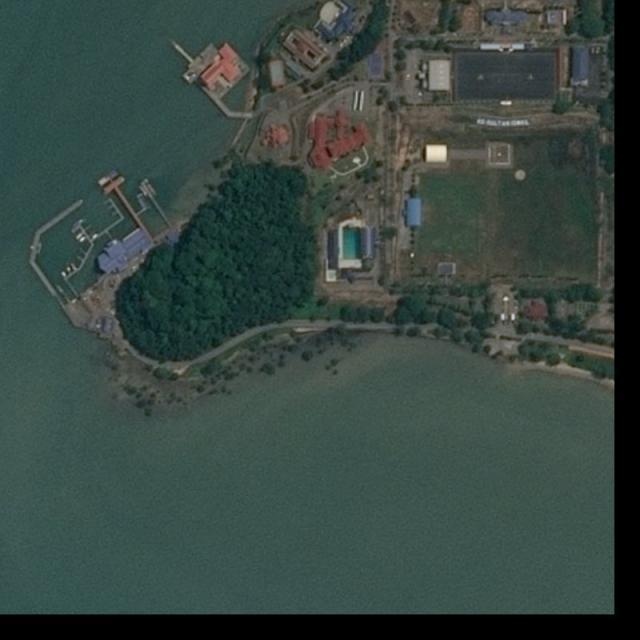ship: (72, 217, 87, 229), (75, 232, 84, 241), (70, 262, 78, 271), (79, 236, 87, 244), (61, 270, 68, 278), (91, 233, 99, 240), (66, 266, 72, 274)
